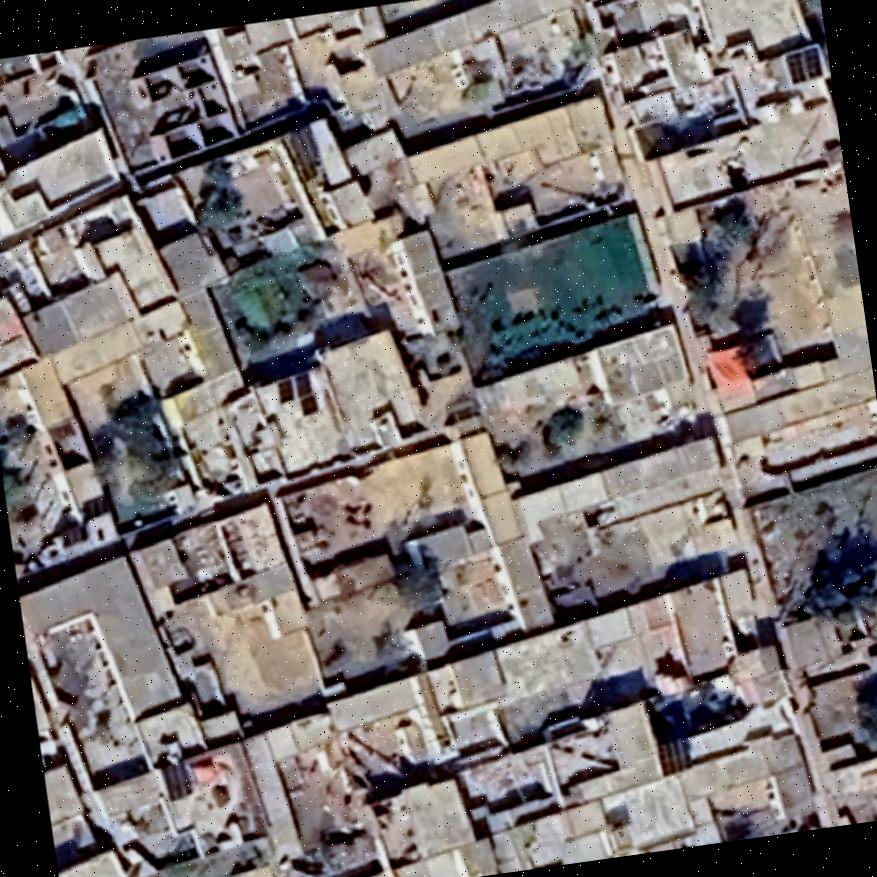Solarpanel: (270, 364, 322, 422), (778, 37, 828, 86), (650, 730, 696, 781), (156, 755, 196, 803)
